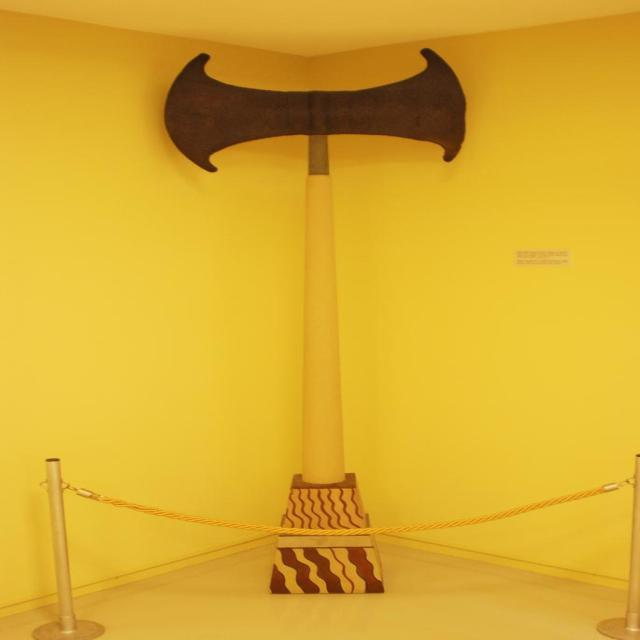Axe: (165, 49, 465, 486)
